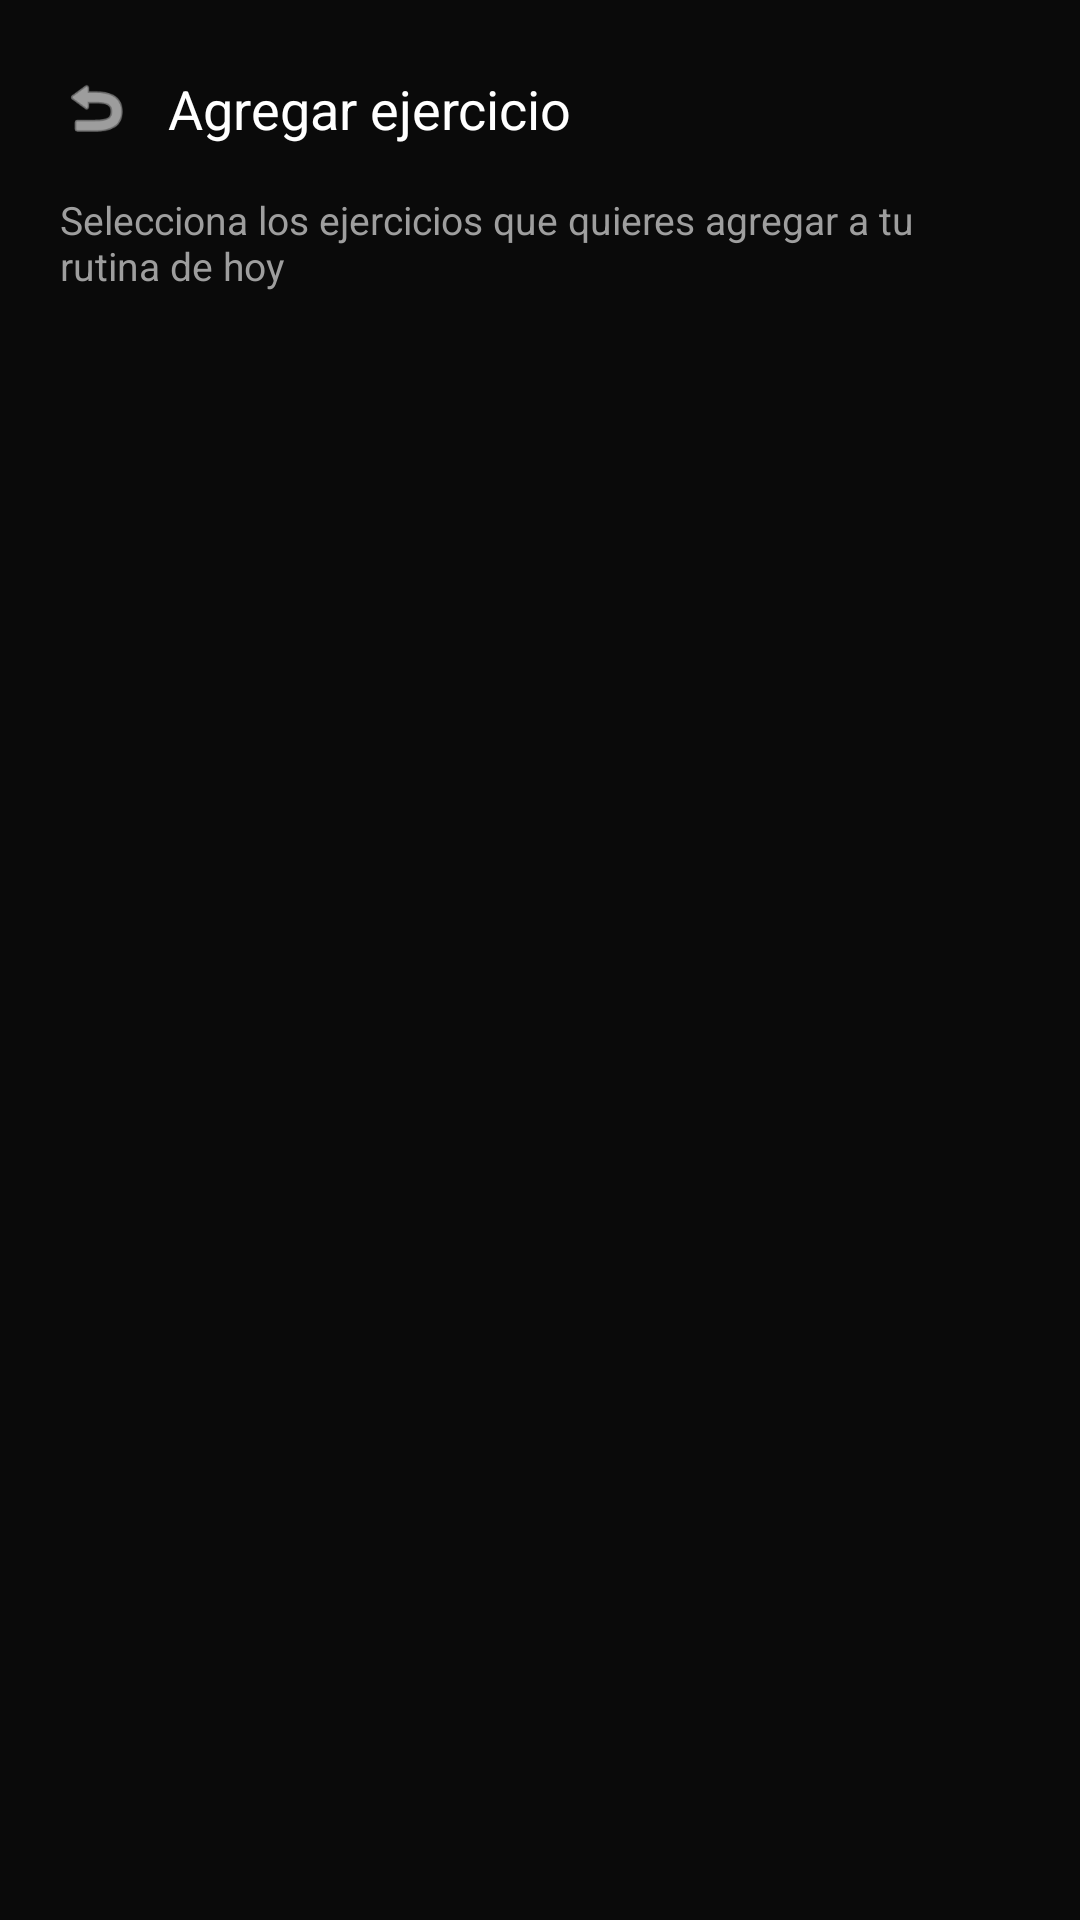

Icons on this 1080 x 1920 Android screen, each with the point to tap as (x=x, y=y):
revert: (x=97, y=108)
